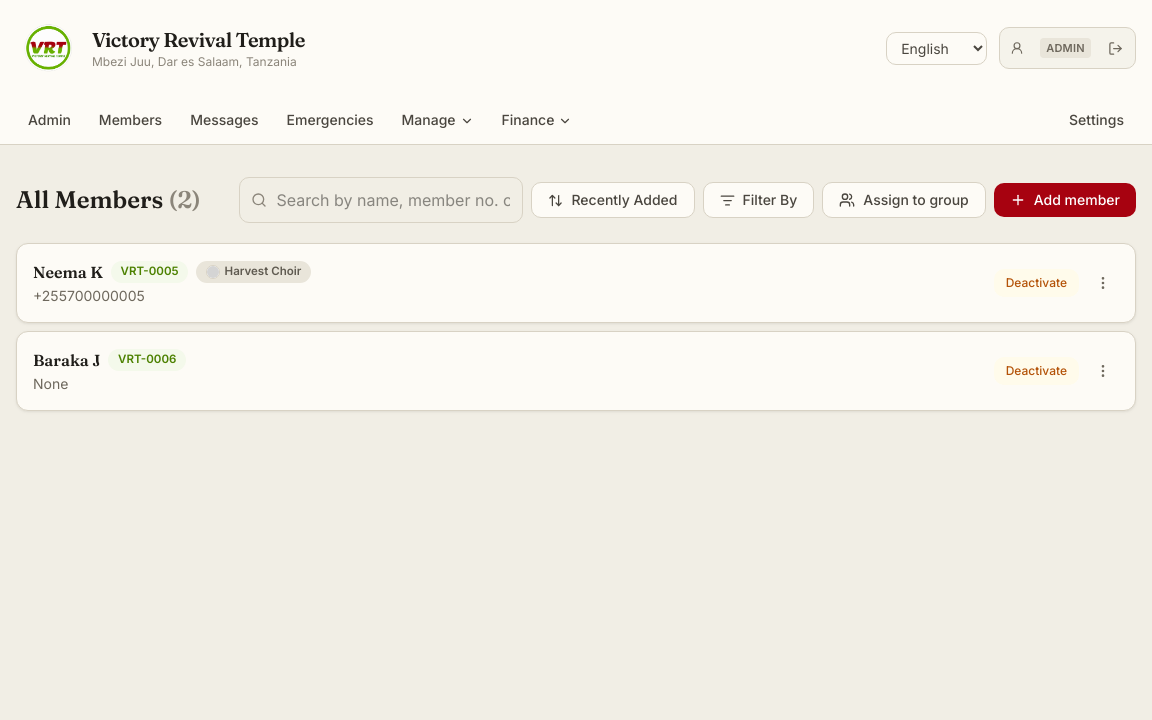
Test case: Members: groups are assigned where the member is registered › shows a disabled group the member is already in, so a save cannot drop it
The width and height of the screenshot is (1152, 720).
Expected: the link "Neema K" is shown, [33,260,103,284]
Click the button named "More actions" in the row of "Harvest Choir".
click(1103, 283)  # box [1087,267,1119,299]
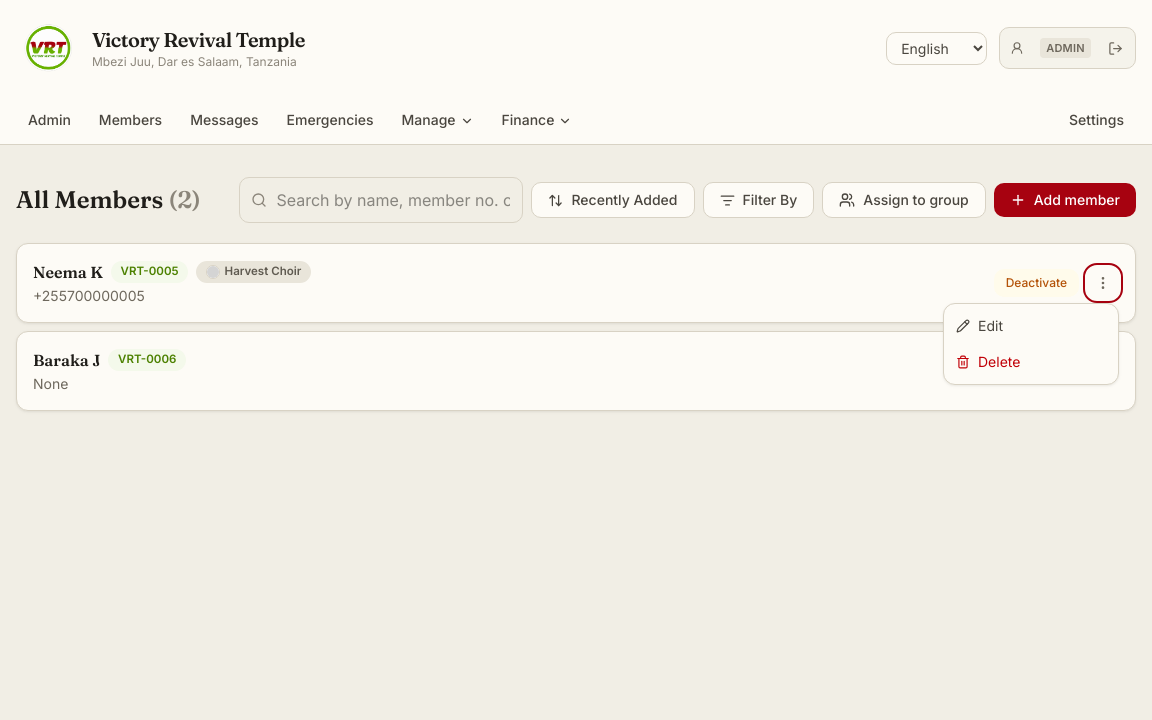
Click the menu item "Edit".
click(1031, 326)  # box [944,308,1118,344]
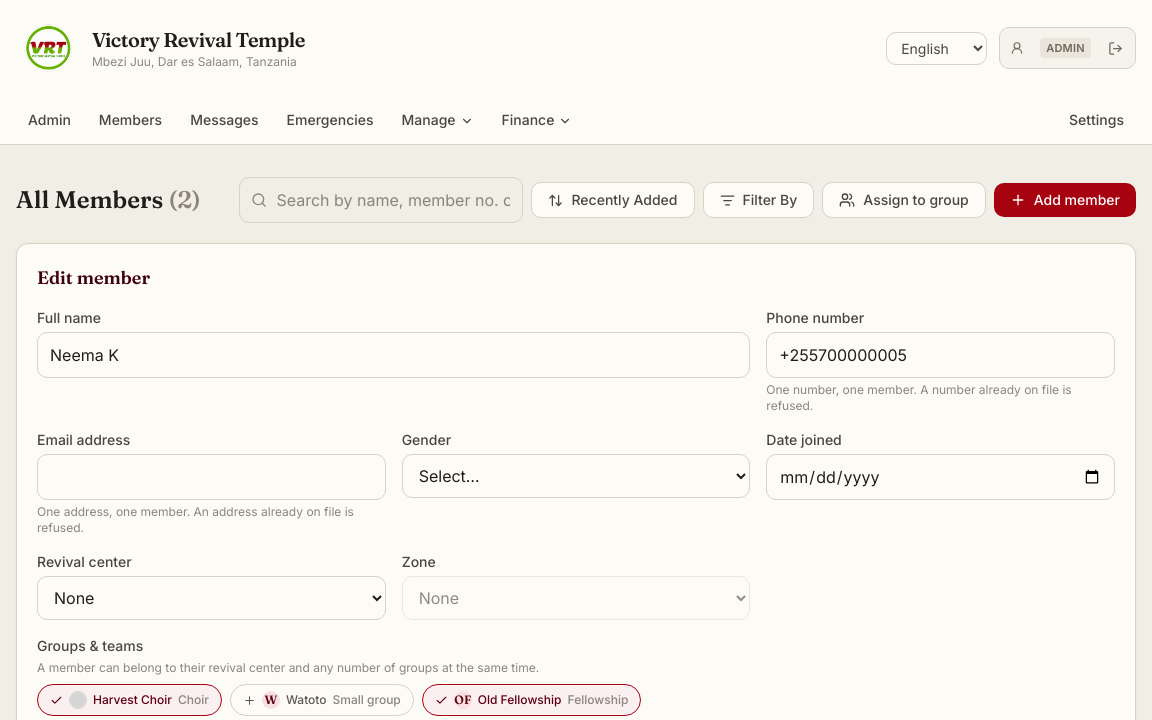
Result: the button "OF Old Fellowship Fellowship" is shown at [422,684,641,716]
